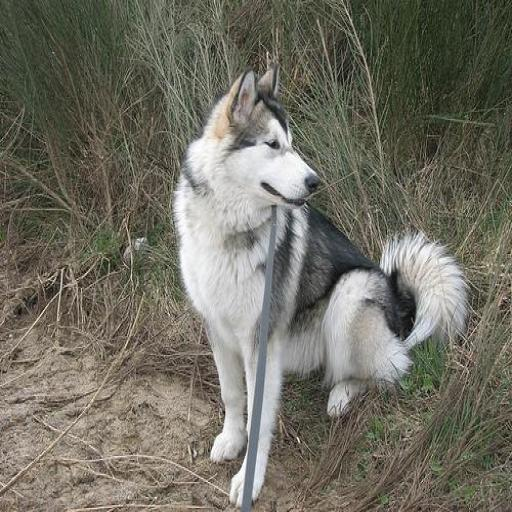dog_face: (222, 74, 320, 207)
